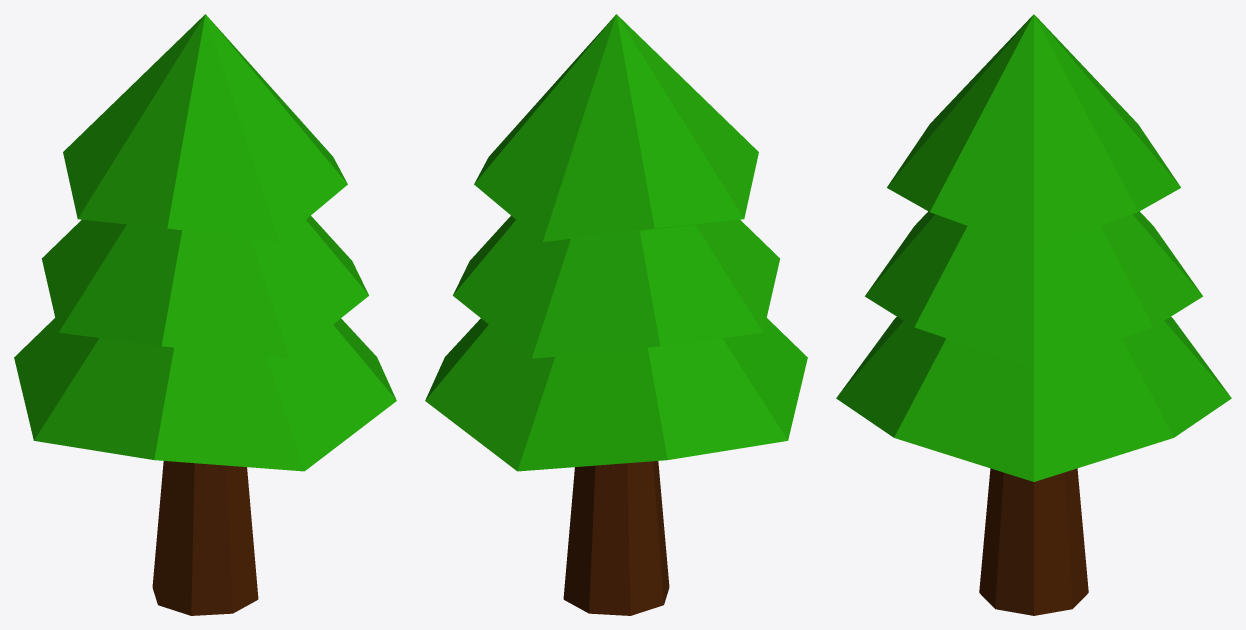
Rendered from Tree.fbx.
3 views of the same model, side by side, from view 1: azimuth 30°, elevation 25°; view 2: azimuth 150°, elevation 25°; view 3: azimuth 270°, elevation 25° (orthographic).
Parts seen in each view (by area): view 1: Cylinder.001; view 2: Cylinder.001; view 3: Cylinder.001.
Part boxes in pixels (bbox=[...]): Cylinder.001: bbox=[14, 14, 396, 615]; Cylinder.001: bbox=[425, 14, 807, 615]; Cylinder.001: bbox=[836, 14, 1231, 615].
Bounding box in the file's own units: 390 × 629 × 390.
